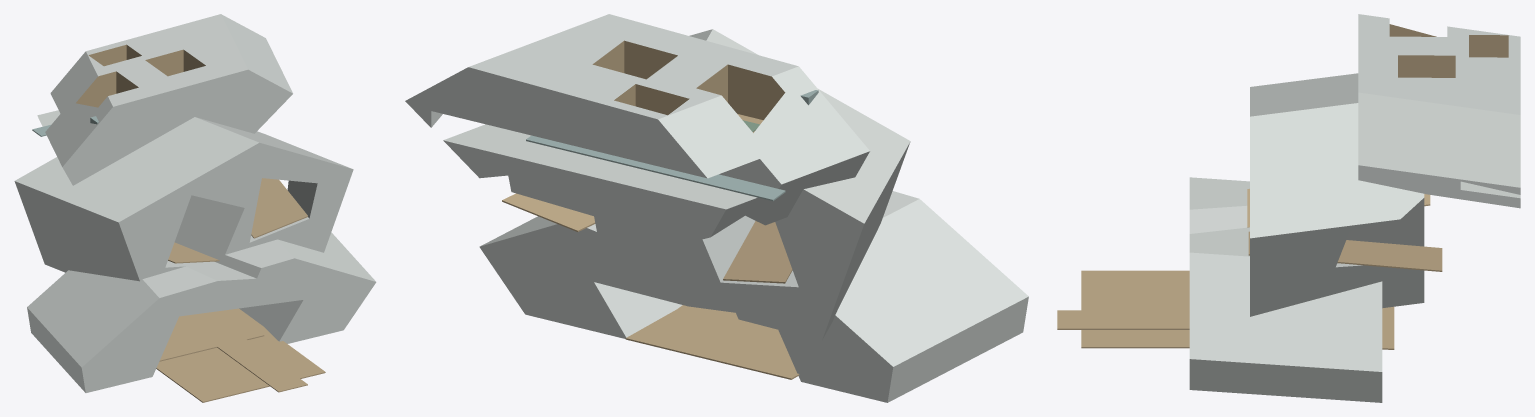
Rendered from N1_CENTRAL.glb.
3 renders of one model, left to right at view 1: azimuth 30°, elevation 25°; view 2: azimuth 150°, elevation 25°; view 3: azimuth 270°, elevation 25°, orthographic. The views are drawn at different scales.
Visible parts, largest first — view 1: N1_INTERLOCKED_PUBLIC_CITY_MASS, GROUND_ARRIVAL_PUBLIC_SPACE, LOWER_ROOM_PUBLIC_FLOOR, CULTURE_ROOM_THRESHOLD, SHARED_ARRIVAL_STREET, TALL_ROOM_THRESHOLD; view 2: N1_INTERLOCKED_PUBLIC_CITY_MASS, LOWER_ROOM_PUBLIC_FLOOR, TALL_ROOM_THRESHOLD, HIGH_CITY_PUBLIC_STREET, CULTURE_ROOM_THRESHOLD; view 3: N1_INTERLOCKED_PUBLIC_CITY_MASS, GROUND_ARRIVAL_PUBLIC_SPACE, SHARED_ARRIVAL_STREET, CULTURE_ROOM_THRESHOLD, LOWER_ROOM_PUBLIC_FLOOR.
Part boxes in pixels (x1,y1,x2,y2): N1_INTERLOCKED_PUBLIC_CITY_MASS: (14,14,376,392); GROUND_ARRIVAL_PUBLIC_SPACE: (156,308,325,402); LOWER_ROOM_PUBLIC_FLOOR: (159,308,264,361); CULTURE_ROOM_THRESHOLD: (251,178,307,238); SHARED_ARRIVAL_STREET: (217,339,307,392); TALL_ROOM_THRESHOLD: (168,242,219,263); N1_INTERLOCKED_PUBLIC_CITY_MASS: (405,14,1028,402); LOWER_ROOM_PUBLIC_FLOOR: (625,305,799,379); TALL_ROOM_THRESHOLD: (723,221,792,283); HIGH_CITY_PUBLIC_STREET: (526,135,785,201); CULTURE_ROOM_THRESHOLD: (502,193,595,231); N1_INTERLOCKED_PUBLIC_CITY_MASS: (1189,14,1520,402); GROUND_ARRIVAL_PUBLIC_SPACE: (1081,270,1189,348); SHARED_ARRIVAL_STREET: (1057,310,1189,329); CULTURE_ROOM_THRESHOLD: (1248,231,1442,271); LOWER_ROOM_PUBLIC_FLOOR: (1382,306,1394,349).
Bounding box in the file's own units: 3856 × 2560 × 3850.
